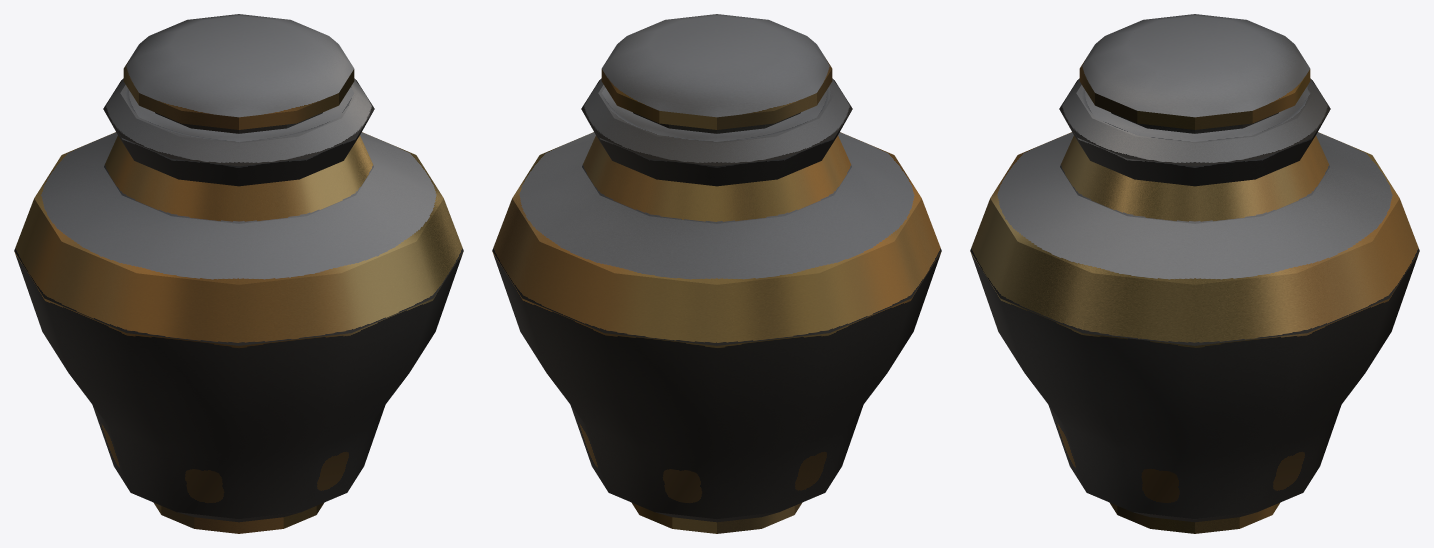
File: urn01.fbx
3 views of the same model, side by side, from view 1: azimuth 30°, elevation 25°; view 2: azimuth 150°, elevation 25°; view 3: azimuth 270°, elevation 25° (orthographic).
Visible parts, largest first — view 1: teapot.001; view 2: teapot.001; view 3: teapot.001.
Part boxes in pixels (bbox=[...]): teapot.001: bbox=[14, 14, 463, 533]; teapot.001: bbox=[492, 14, 941, 533]; teapot.001: bbox=[970, 14, 1419, 533].
Bounding box in the file's own units: 0.2731 × 0.2731 × 0.3019.
1 material, 1 textured.
